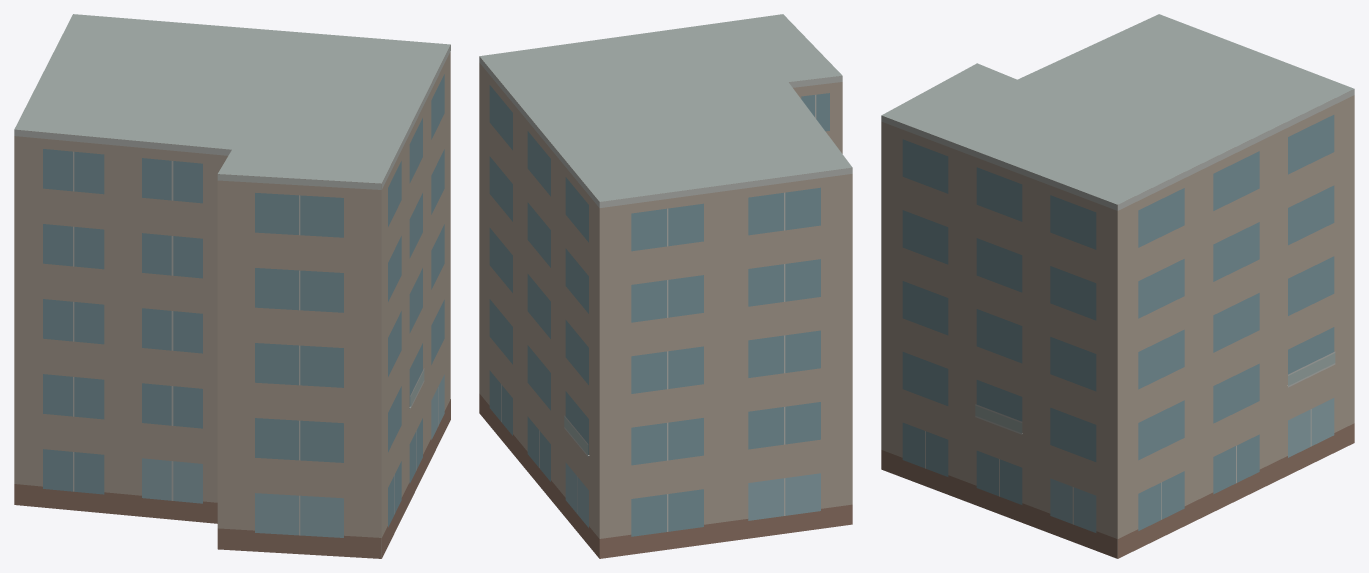
The model's file is survey-upis-32536778.glb.
3 views of the same model, side by side, from view 1: azimuth 30°, elevation 25°; view 2: azimuth 150°, elevation 25°; view 3: azimuth 270°, elevation 25° (orthographic). The views are drawn at different scales.
Visible parts, largest first — view 1: survey-upis-32536778.tmp; view 2: survey-upis-32536778.tmp; view 3: survey-upis-32536778.tmp.
Boxes of the visible parts, left/top/right/bottom form: survey-upis-32536778.tmp: left=14, top=14, right=450, bottom=558; survey-upis-32536778.tmp: left=479, top=14, right=852, bottom=558; survey-upis-32536778.tmp: left=881, top=14, right=1354, bottom=558.
Size of the model in its own units: 16.25 by 14.05 by 17.03.
